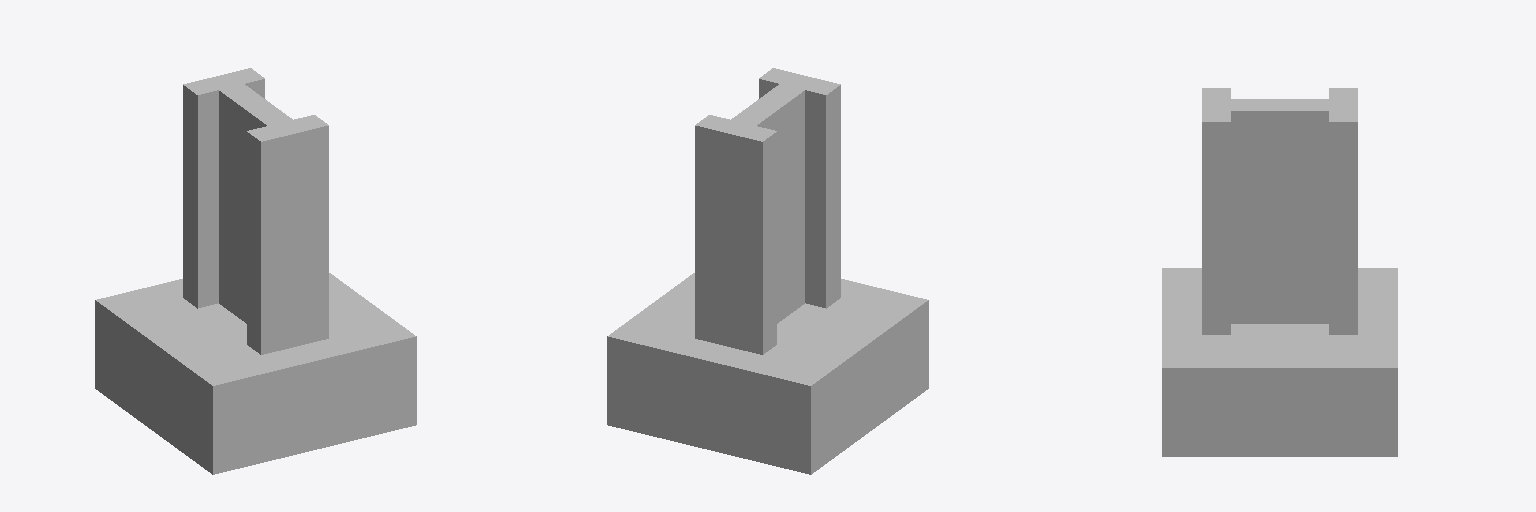
File: overhead_square_pillar_steel_bottom.obj
The picture shows the model from 3 angles: view 1: azimuth 30°, elevation 25°; view 2: azimuth 150°, elevation 25°; view 3: azimuth 270°, elevation 25°; orthographic projection.
Visible parts, largest first — view 1: pole; view 2: pole; view 3: pole.
Part boxes in pixels (bbox=[...]): pole: bbox=[95, 68, 416, 474]; pole: bbox=[607, 68, 928, 474]; pole: bbox=[1162, 88, 1397, 456].
Bounding box in the file's own units: 0.75 × 1.06 × 0.75.